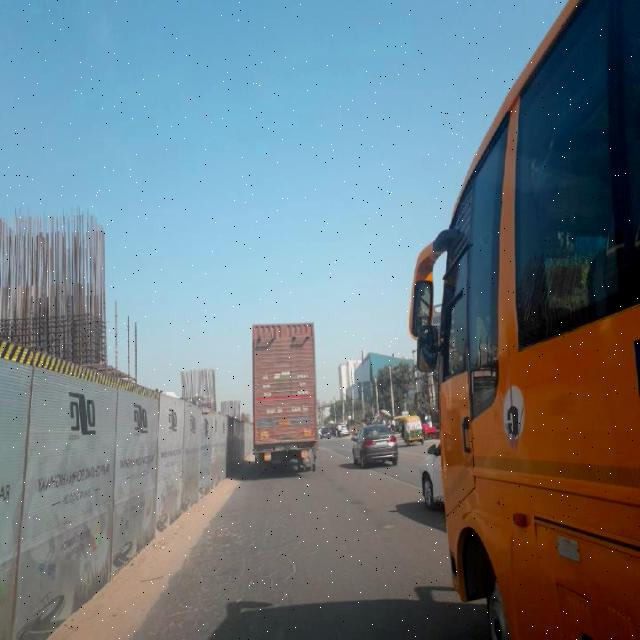D20: (151, 510, 309, 631)
